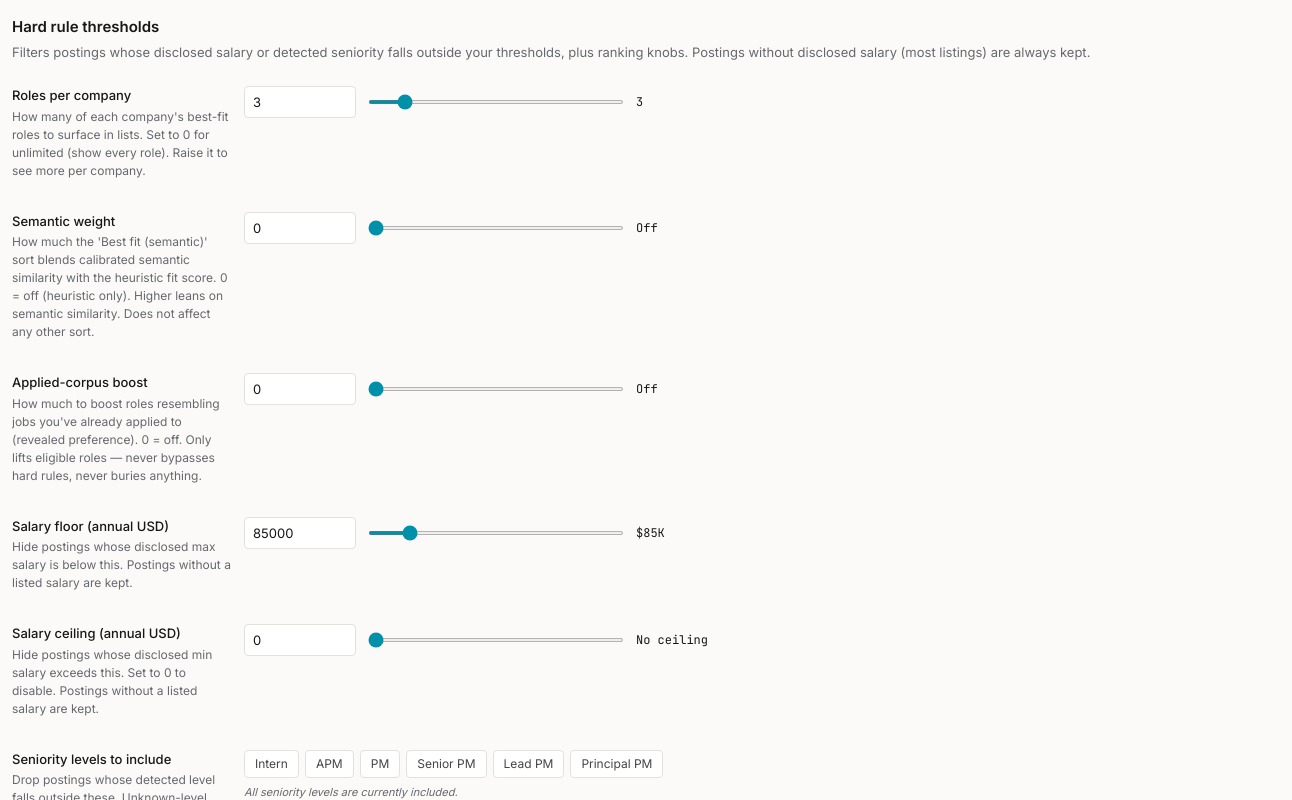
HardRulesSection — PR #43 controls › clicking a chip toggles aria-pressed
The image size is (1292, 800).
Click the button "APM".
click(329, 764)  # box [305,750,354,778]
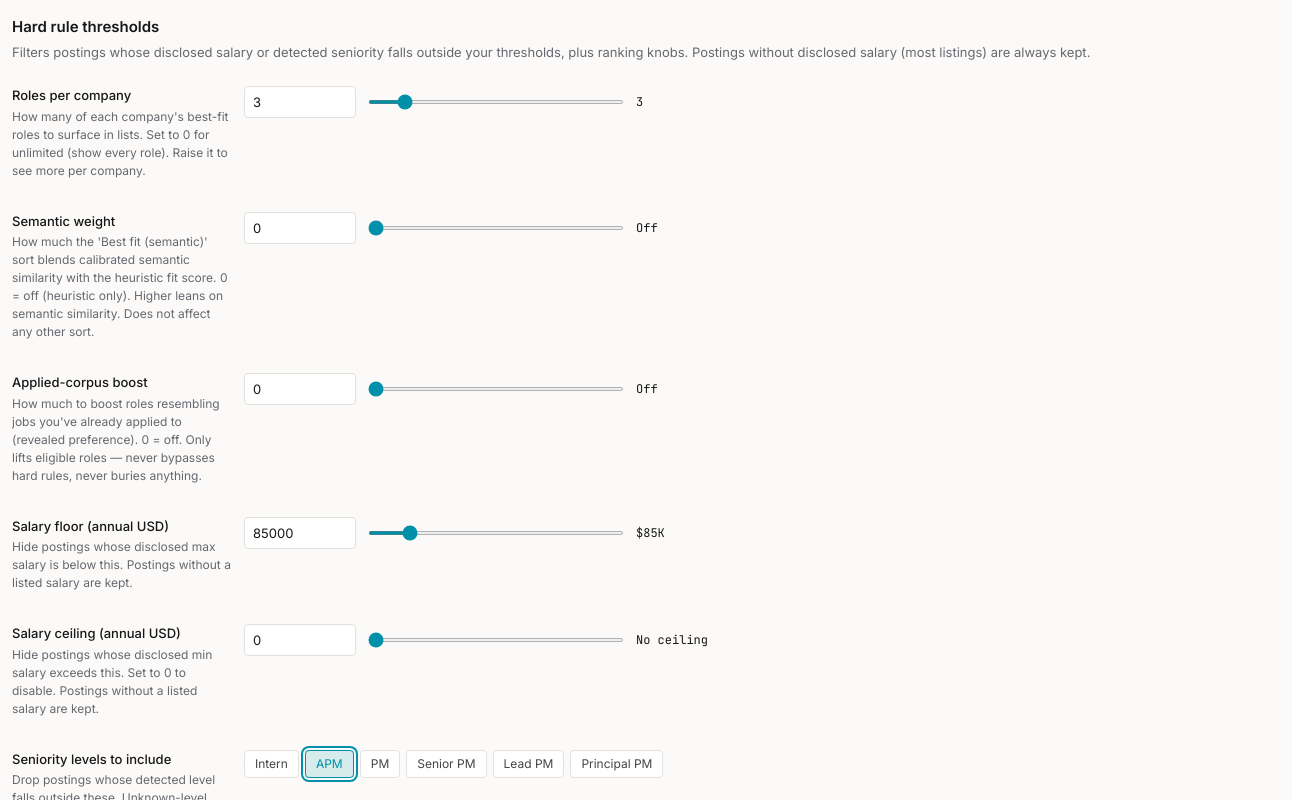
Expected: the text "All seniority levels are currently included" is gone
